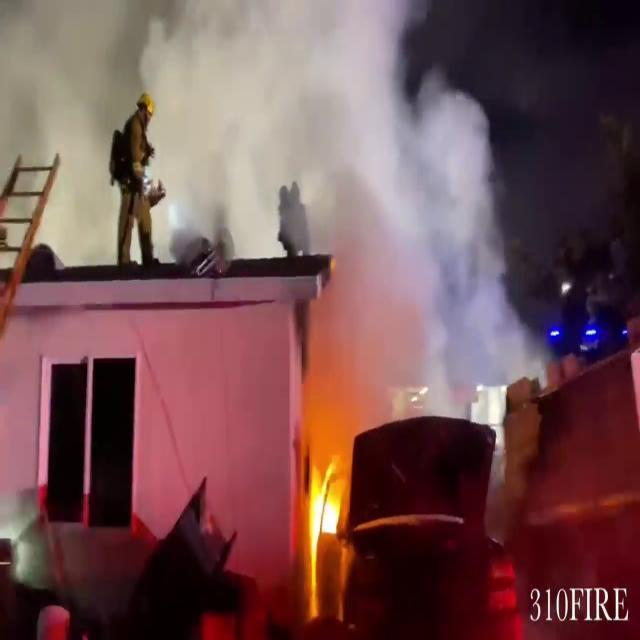Fire: (300, 440, 346, 614)
Smoke: (297, 0, 538, 398), (0, 0, 352, 262)
